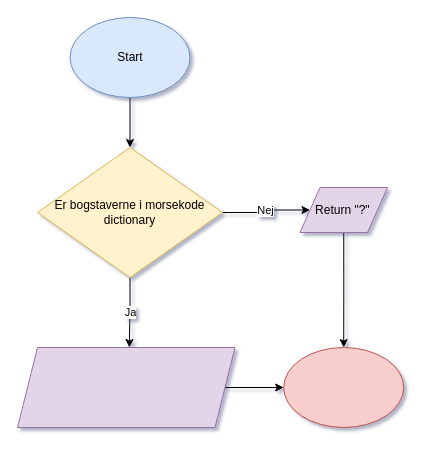
The diagram is 428 pixels wide and 451 high, and some of its shapes have lost their labels. The shapes that lost their labels are listed below. From the top down, each one's box as (x1, y1, x2, y2) in pixels, then its label:
(16, 346, 235, 428): Return morsekode oversættelse fra morsekode dictionary
(283, 346, 404, 428): Slut
